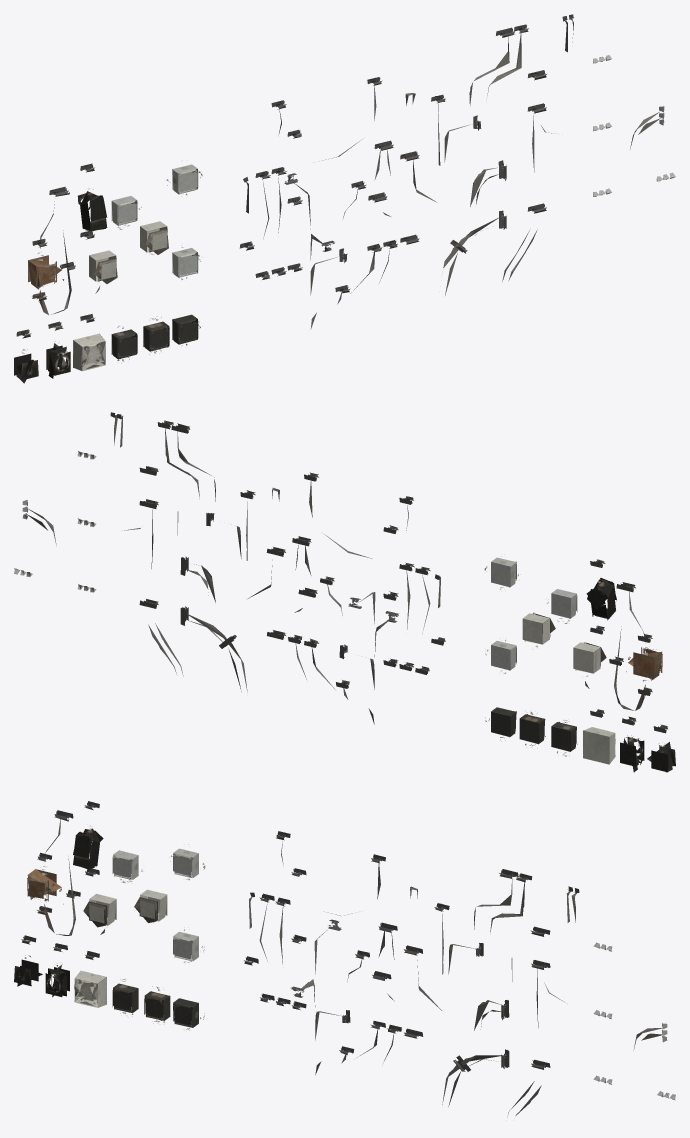
The model's file is modular_electric_cables.glb.
3 views of the same model, one above another, from view 1: azimuth 30°, elevation 25°; view 2: azimuth 150°, elevation 25°; view 3: azimuth 330°, elevation 25° (orthographic).
Visible parts, largest first — view 1: cable_switch, cable_plug_4x, cable_plug_covered_2, cable_lightswitch_double, cable_lightswitch, cable_plug_covered, cable_3way_junction, cable_box_double, cable_box_double_to_single_2, cable_box_4way, cable_box_double_to_single, cable_box_3way (+3 smaller); view 2: cable_switch, cable_plug_4x, cable_plug_covered_2, cable_lightswitch_double, cable_lightswitch, cable_plug_covered, cable_box_double_to_single_2, cable_box_4way, cable_box_double, cable_box_3way, cable_box_double_to_single, cable_lightswitch_2 (+3 smaller); view 3: cable_switch, cable_plug_4x, cable_plug_covered_2, cable_lightswitch_double, cable_lightswitch, cable_plug_covered, cable_box_double_to_single_2, cable_box_double, cable_box_double_to_single, cable_box_4way, cable_box_3way, cable_box_turn (+3 smaller).
Boxes of the visible parts, left/top/right/bottom form: cable_switch: left=28, top=186, right=75, bottom=314; cable_plug_4x: left=73, top=314, right=105, bottom=371; cable_plug_covered_2: left=77, top=163, right=107, bottom=231; cable_lightswitch_double: left=80, top=231, right=117, bottom=293; cable_lightswitch: left=140, top=221, right=168, bottom=255; cable_plug_covered: left=46, top=321, right=70, bottom=378; cable_3way_junction: left=469, top=24, right=528, bottom=105; cable_box_double: left=143, top=316, right=169, bottom=354; cable_box_double_to_single_2: left=111, top=196, right=141, bottom=229; cable_box_4way: left=167, top=160, right=202, bottom=196; cable_box_double_to_single: left=111, top=326, right=137, bottom=363; cable_box_3way: left=172, top=245, right=200, bottom=280; cable_switch: left=609, top=582, right=662, bottom=710; cable_plug_4x: left=583, top=709, right=615, bottom=764; cable_plug_covered_2: left=586, top=559, right=616, bottom=620; cable_lightswitch_double: left=573, top=625, right=606, bottom=688; cable_lightswitch: left=522, top=612, right=555, bottom=649; cable_plug_covered: left=620, top=716, right=644, bottom=772; cable_box_double_to_single_2: left=546, top=589, right=577, bottom=623; cable_box_4way: left=484, top=554, right=520, bottom=591; cable_box_double: left=519, top=712, right=545, bottom=748; cable_box_3way: left=485, top=639, right=516, bottom=673; cable_box_double_to_single: left=551, top=720, right=577, bottom=756; cable_lightswitch_2: left=647, top=724, right=675, bottom=772; cable_switch: left=27, top=810, right=80, bottom=935; cable_plug_4x: left=74, top=951, right=106, bottom=1007; cable_plug_covered_2: left=73, top=801, right=103, bottom=869; cable_lightswitch_double: left=83, top=868, right=116, bottom=934; cable_lightswitch: left=134, top=889, right=167, bottom=922; cable_plug_covered: left=45, top=943, right=69, bottom=997; cable_box_double_to_single_2: left=112, top=850, right=142, bottom=883; cable_box_double: left=144, top=986, right=170, bottom=1023; cable_box_double_to_single: left=112, top=979, right=138, bottom=1016; cable_box_4way: left=169, top=844, right=205, bottom=880; cable_box_3way: left=173, top=927, right=204, bottom=962; cable_box_turn: left=173, top=998, right=204, bottom=1030.
Bounding box in the file's own units: 2.07 × 0.7573 × 0.2145.
Materials: 2 (2 with a texture image).
